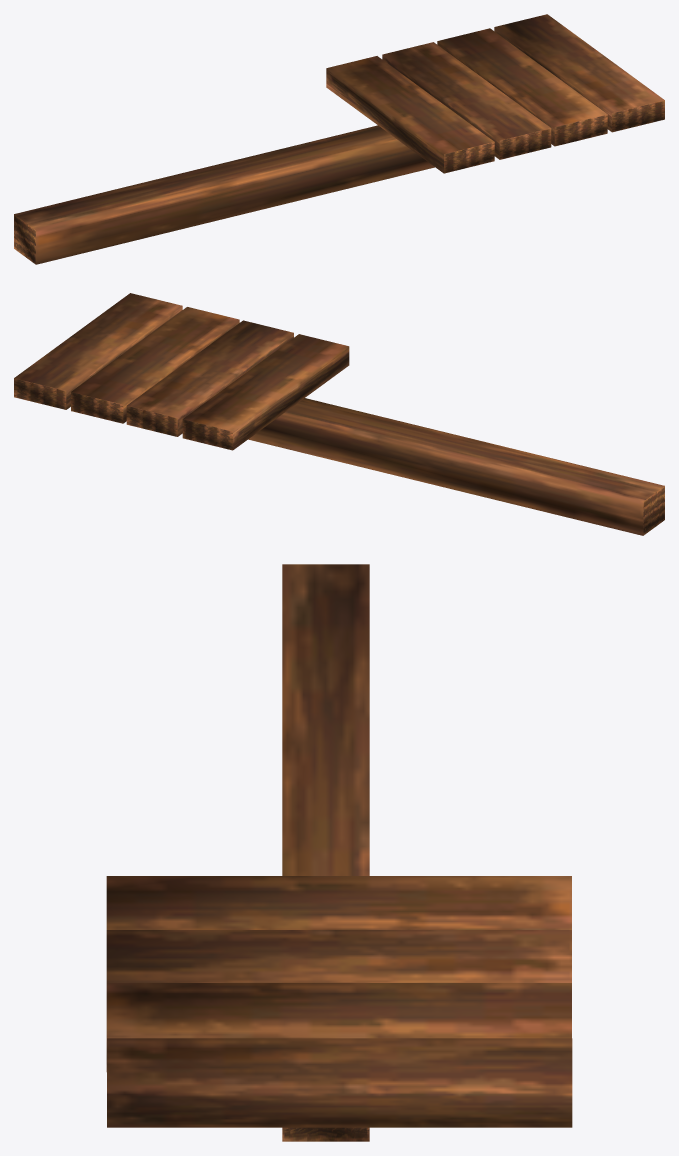
File: INST_SWORDLIGHT_FIREPLATB.fbx
The picture shows the model from 3 angles, top to bottom: view 1: azimuth 30°, elevation 25°; view 2: azimuth 150°, elevation 25°; view 3: azimuth 270°, elevation 25°; orthographic projection. The views are drawn at different scales.
Parts seen in each view (by area): view 1: INST_SWORDLIGHT_FIREPLATB; view 2: INST_SWORDLIGHT_FIREPLATB; view 3: INST_SWORDLIGHT_FIREPLATB.
Part boxes in pixels (x1,y1,x2,y2): INST_SWORDLIGHT_FIREPLATB: (14, 14, 664, 264); INST_SWORDLIGHT_FIREPLATB: (14, 293, 664, 535); INST_SWORDLIGHT_FIREPLATB: (106, 564, 572, 1141).
Bounding box in the file's own units: 31006 × 2758 × 10813.
1 material, 1 textured.
